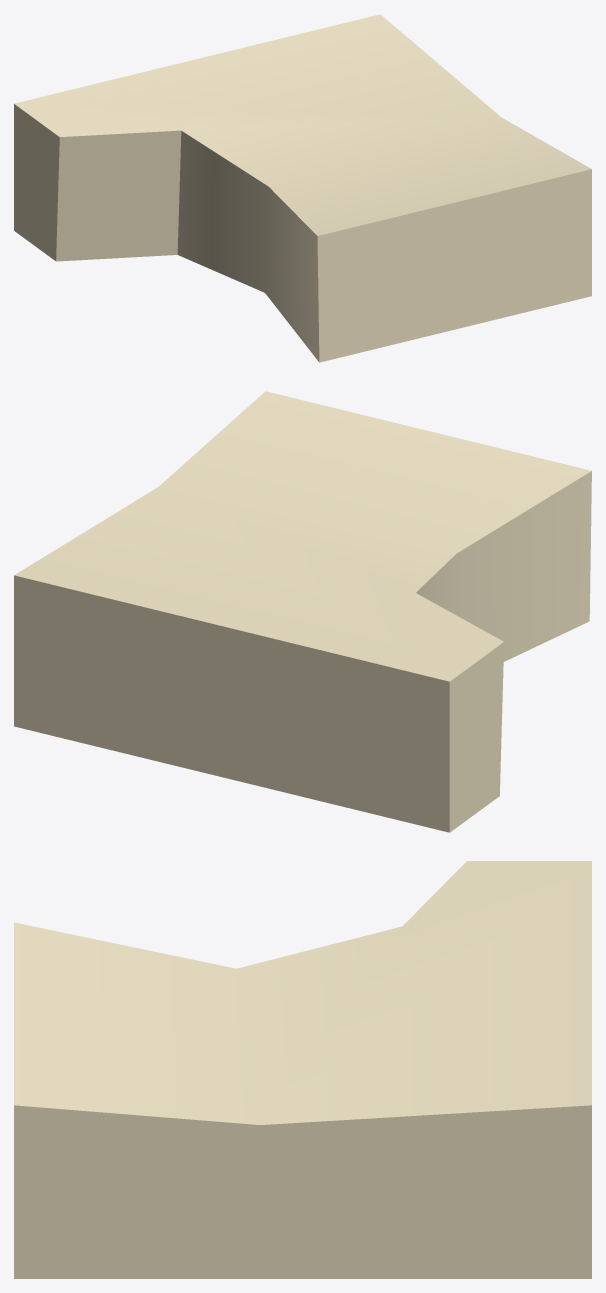
File: Destroy_Plate_7.fbx
The picture shows the model from 3 angles, top to bottom: view 1: azimuth 30°, elevation 25°; view 2: azimuth 150°, elevation 25°; view 3: azimuth 270°, elevation 25°; orthographic projection. The views are drawn at different scales.
Parts seen in each view (by area): view 1: Destroy_Plate_7; view 2: Destroy_Plate_7; view 3: Destroy_Plate_7.
Part boxes in pixels (bbox=[...]): Destroy_Plate_7: bbox=[14, 14, 591, 362]; Destroy_Plate_7: bbox=[14, 391, 591, 832]; Destroy_Plate_7: bbox=[14, 861, 591, 1278].
Size of the model in its own units: 300 by 99.39 by 300.
